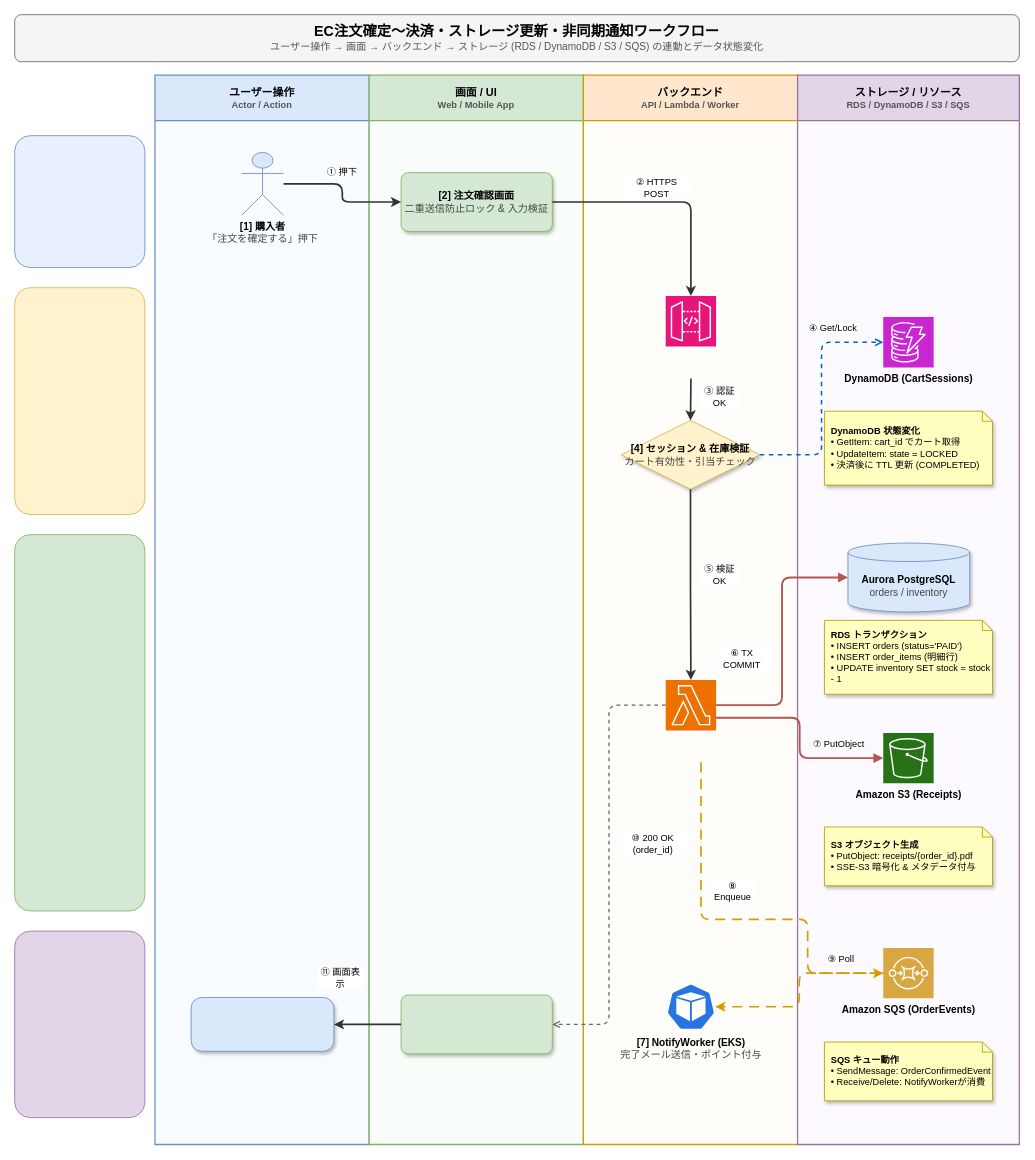
Image size: 1035x1160. Some labels were removed from this diagram. The shapes that lost their labels are listed below. From the top down, each one's centre as x and y in pixels, then its label:
At (79,201): "Phase 1: 注文操作・入力検証".
At (690,320): "[3] API Gateway POST /api/v1/orders".
At (79,400): "Phase 2: API受付・在庫/決済判定".
At (79,722): "Phase 3: DB永続化・S3証憑保存".
At (690,704): "[5] OrderService (Lambda) 決済実行・DB記録・PDF生成".
At (79,1024): "Phase 4: 非同期イベント・完了表示".
At (263,1025): "[9] 注文完了・領収書確認 完了画面 & PDF領収書DL".
At (477,1025): "[8] 注文完了画面 注文番号表示・S3署名付きURL取得".
